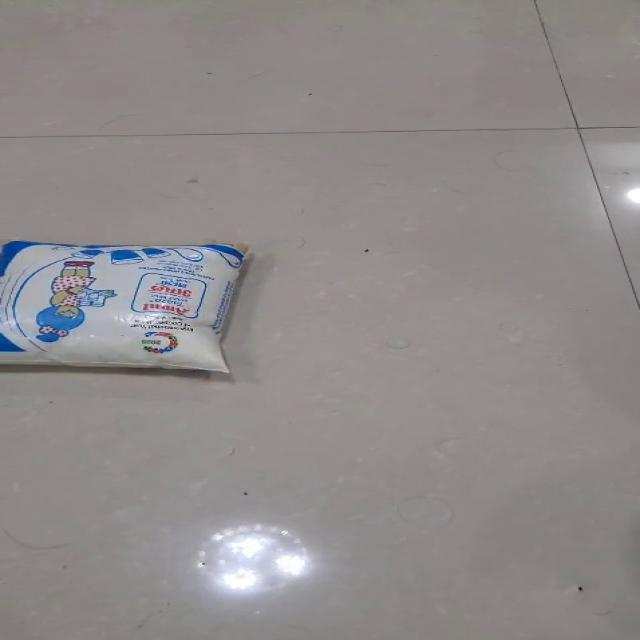plastic: (0, 239, 249, 374)
